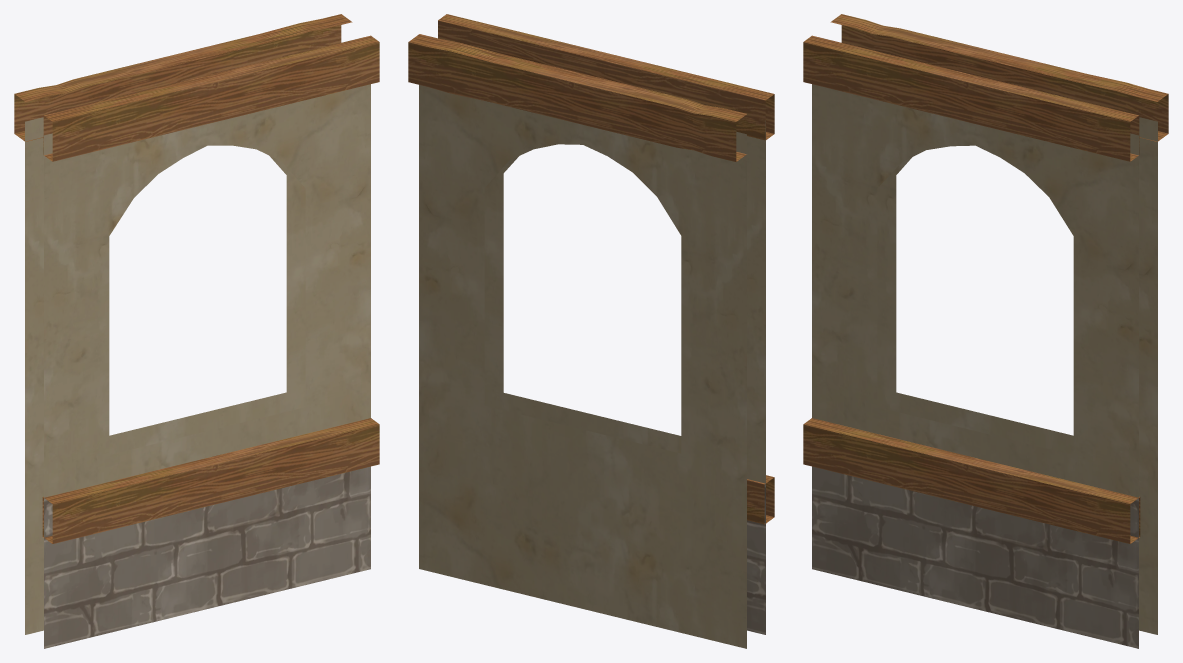
Rendered from Wall_Plaster_Window_Wide_Round.glb.
3 renders of one model, left to right at view 1: azimuth 30°, elevation 25°; view 2: azimuth 150°, elevation 25°; view 3: azimuth 330°, elevation 25°, orthographic.
Visible parts, largest first — view 1: Wall_Plaster_Window_Wide_Round; view 2: Wall_Plaster_Window_Wide_Round; view 3: Wall_Plaster_Window_Wide_Round.
Boxes of the visible parts, bbox=[...] form: Wall_Plaster_Window_Wide_Round: bbox=[14, 14, 379, 648]; Wall_Plaster_Window_Wide_Round: bbox=[408, 14, 774, 648]; Wall_Plaster_Window_Wide_Round: bbox=[803, 14, 1168, 648].
Size of the model in its own units: 2 by 3.12 by 0.4064.
3 materials, 3 textured.
